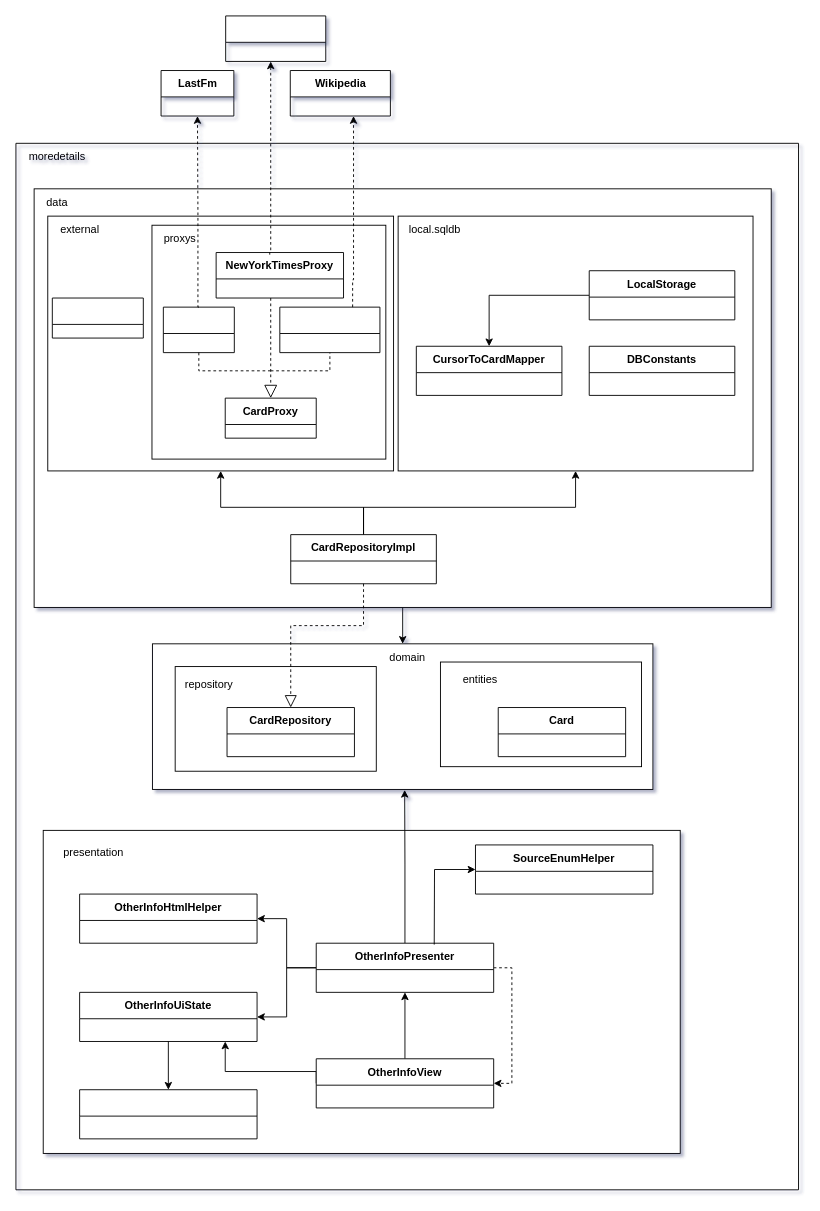
Image size: 820x1211. Some labels were removed from this diagram. The shapes that lost their labels are listed below. From the top down, each one's centre as x and y in pixels, then its label:
the point at 275,38: NewYorkTimes
the point at 97,317: Broker
the point at 198,329: LastFmProxy
the point at 329,329: WikipediaProxy
the point at 168,1114: CardUiState
